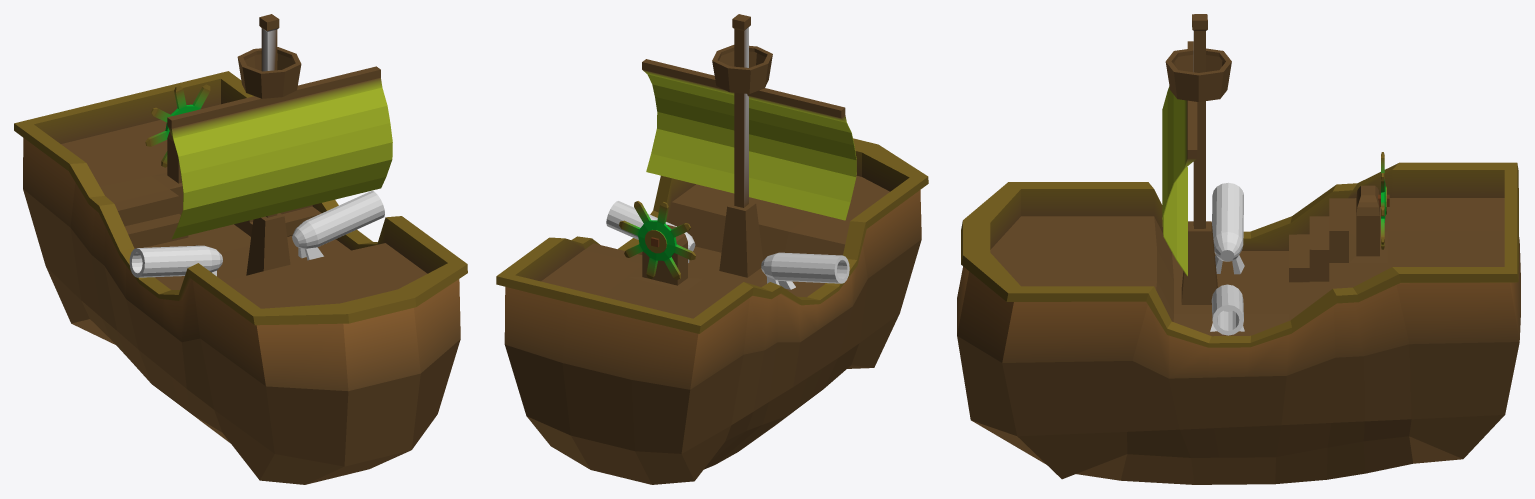
File: SimpleShip.fbx
3 renders of one model, left to right at view 1: azimuth 30°, elevation 25°; view 2: azimuth 150°, elevation 25°; view 3: azimuth 270°, elevation 25°, orthographic. The views are drawn at different scales.
Parts seen in each view (by area): view 1: Ship.001, SailPole.001, Cannon.001, Wheel.001; view 2: Ship.001, SailPole.001, Cannon.001, Wheel.001; view 3: Ship.001, SailPole.001, Cannon.001.
Part boxes in pixels (x1=…): Ship.001: x1=14, y1=71, x2=467, y2=484; SailPole.001: x1=167, y1=14, x2=392, y2=275; Cannon.001: x1=129, y1=191, x2=384, y2=277; Wheel.001: x1=145, y1=84, x2=210, y2=167; Ship.001: x1=496, y1=138, x2=928, y2=484; SailPole.001: x1=642, y1=14, x2=856, y2=277; Cannon.001: x1=606, y1=201, x2=849, y2=289; Wheel.001: x1=619, y1=201, x2=695, y2=279; Ship.001: x1=957, y1=162, x2=1520, y2=484; SailPole.001: x1=1162, y1=14, x2=1231, y2=304; Cannon.001: x1=1210, y1=182, x2=1244, y2=335.
Bounding box in the file's own units: 1.09 × 1.8 × 2.05.
